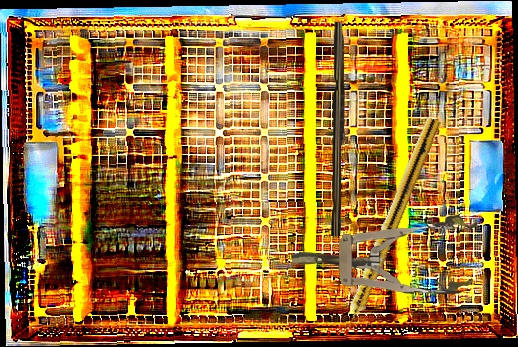Handpiece: (334, 114, 442, 340)
Scalpel Handle: (331, 22, 347, 236)
Speculum: (291, 214, 479, 297)
